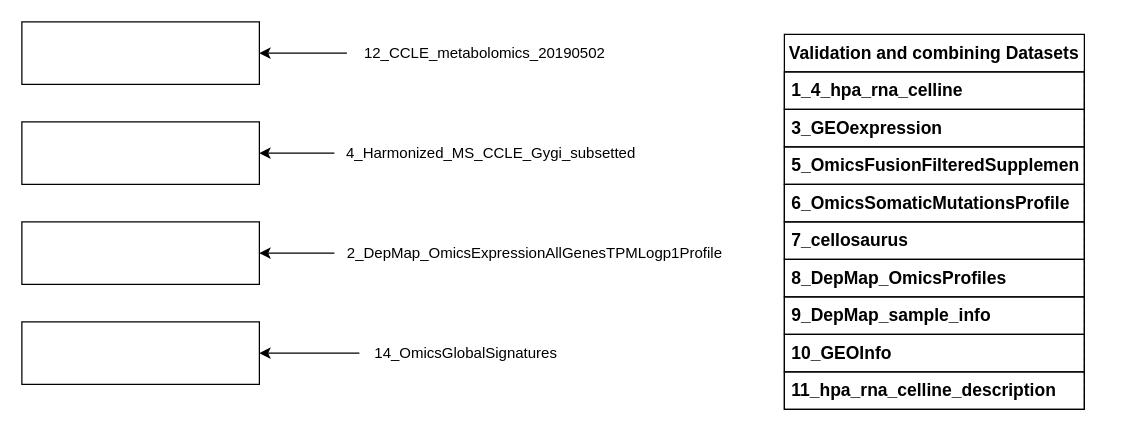
The diagram is 1131 pixels wide and 431 high, and some of its shapes have lost their labels. The shapes that lost their labels are listed below. From the top down, each one's centre as x and y in pixels, then its label:
At (x=140, y=52): "Metabolomics".
At (x=140, y=152): "Proteonomics".
At (x=140, y=252): "Transcriptomics".
At (x=140, y=352): "Genomics".
